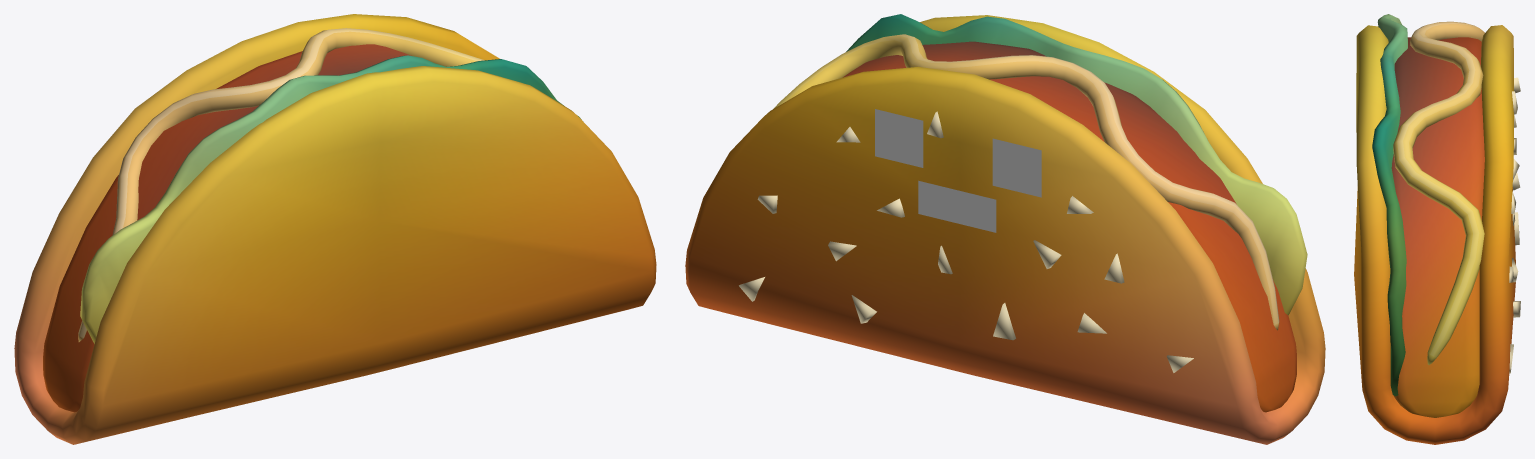
The model's file is tacos_smile.fbx.
3 renders of one model, left to right at view 1: azimuth 30°, elevation 25°; view 2: azimuth 150°, elevation 25°; view 3: azimuth 270°, elevation 25°, orthographic. The views are drawn at different scales.
Parts seen in each view (by area): view 1: tacos_smile; view 2: tacos_smile; view 3: tacos_smile.
Boxes of the visible parts, x1=… form: tacos_smile: x1=14, y1=14, x2=656, y2=444; tacos_smile: x1=685, y1=14, x2=1325, y2=444; tacos_smile: x1=1354, y1=14, x2=1520, y2=444.
Bounding box in the file's own units: 85.41 × 46.11 × 24.92.
2 materials, 1 textured.
